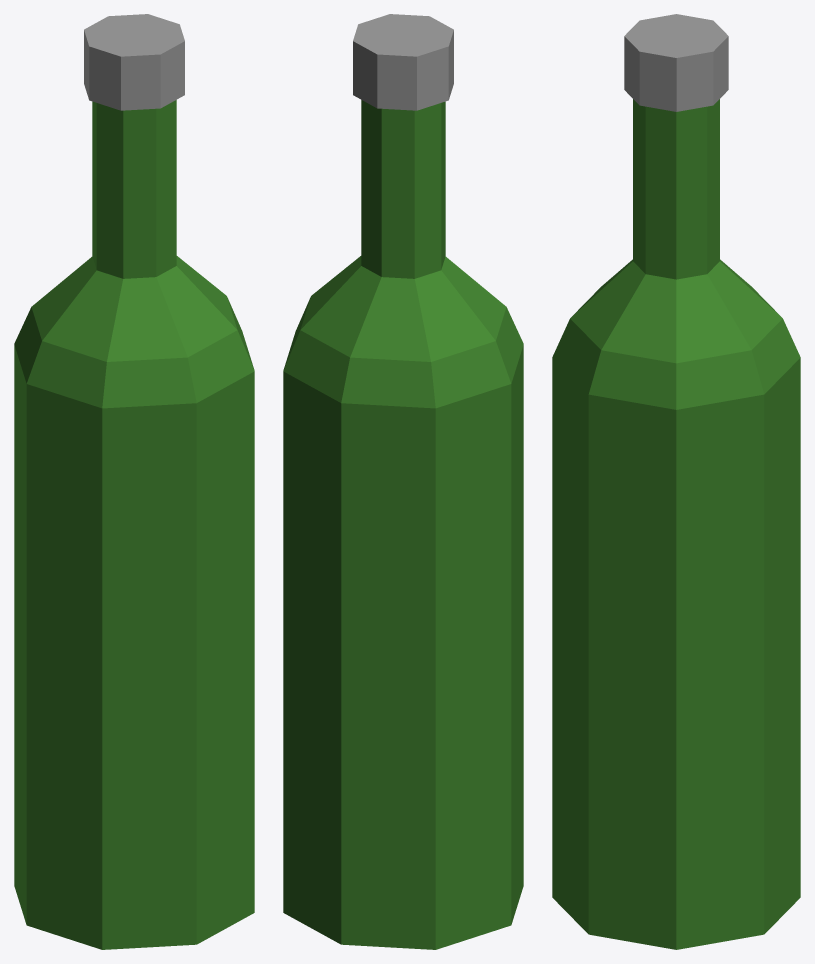
Rendered from Happy_wine.fbx.
3 views of the same model, side by side, from view 1: azimuth 30°, elevation 25°; view 2: azimuth 150°, elevation 25°; view 3: azimuth 270°, elevation 25° (orthographic).
Visible parts, largest first — view 1: Cylinder_2; view 2: Cylinder_2; view 3: Cylinder_2.
Part boxes in pixels (left/top/right/bottom): Cylinder_2: left=14, top=14, right=254, bottom=949; Cylinder_2: left=283, top=14, right=523, bottom=949; Cylinder_2: left=552, top=14, right=800, bottom=949.
Size of the model in its own units: 20 by 76.52 by 20.
